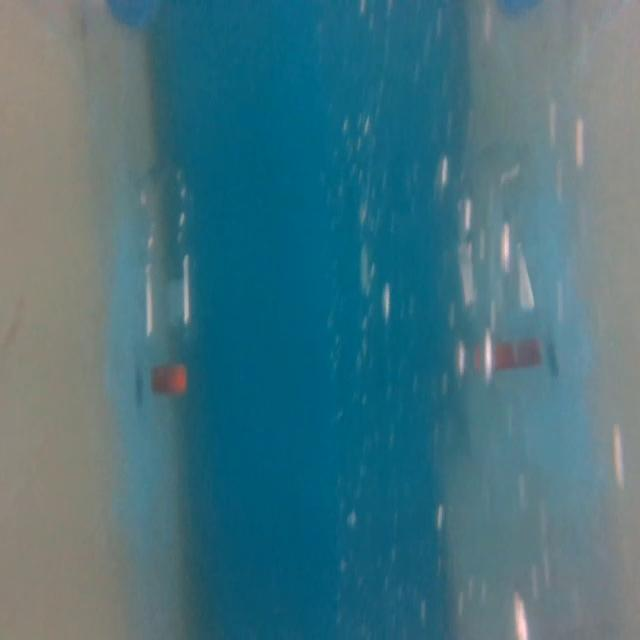plastic bottle: (133, 158, 206, 398)
